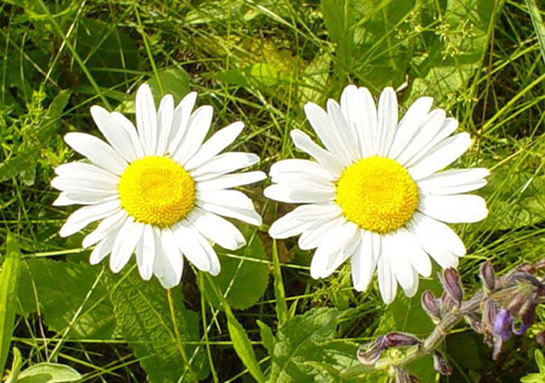papatya: (42, 81, 489, 297)
